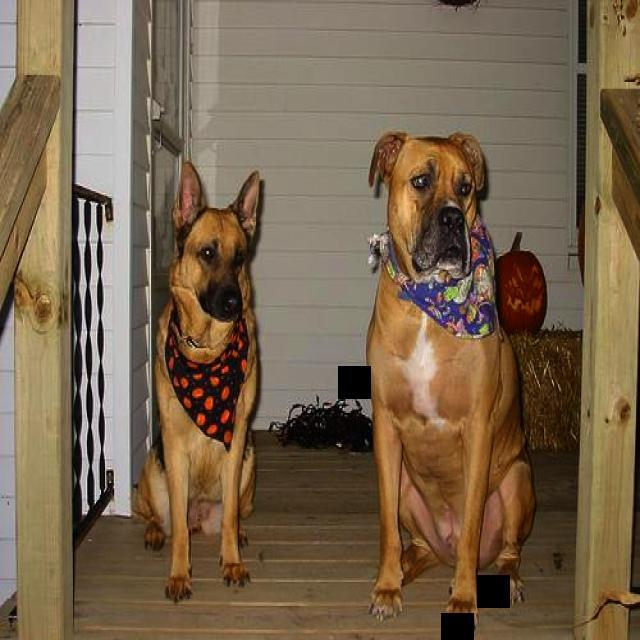adult_dog: (365, 130, 534, 640), (132, 163, 263, 602)
